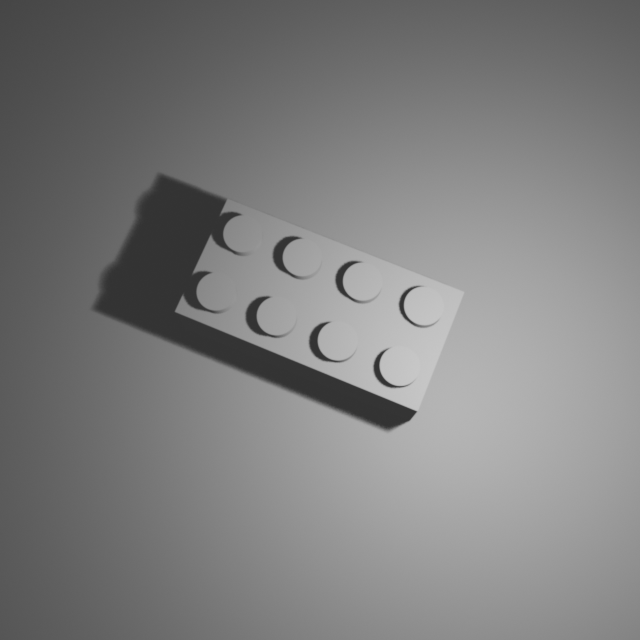lego_2x4: (173, 194, 467, 421)
